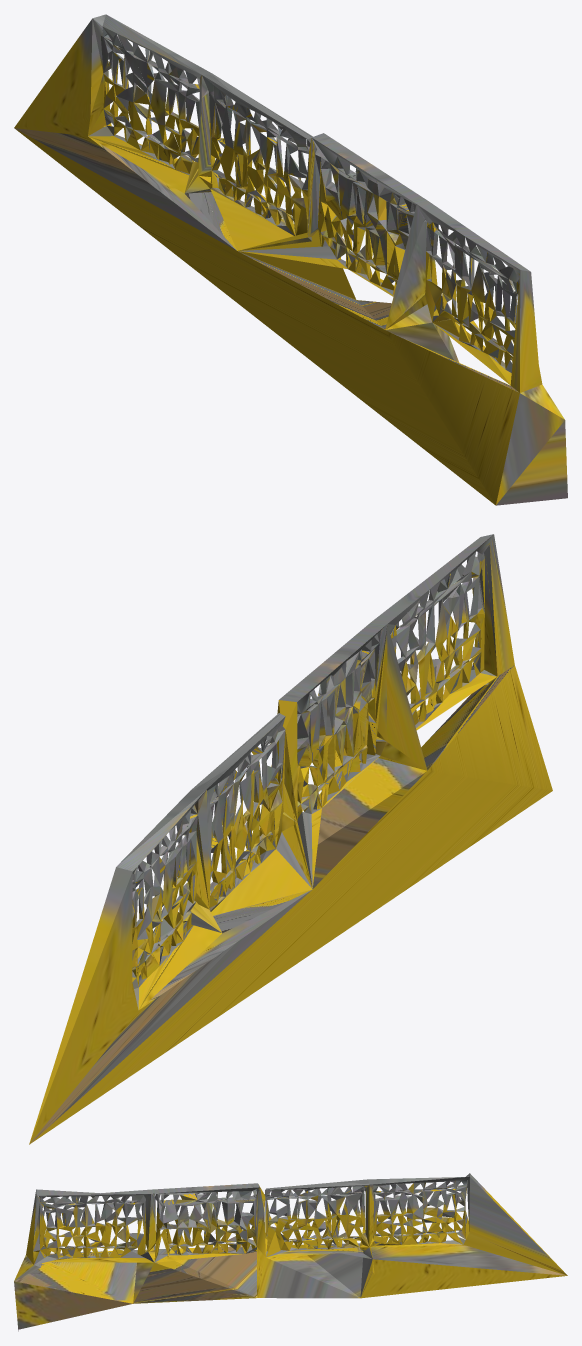
3 renders of one model, top to bottom at view 1: azimuth 30°, elevation 25°; view 2: azimuth 150°, elevation 25°; view 3: azimuth 270°, elevation 25°, orthographic. The views are drawn at different scales.
Visible parts, largest first — view 1: k04; view 2: k04; view 3: k04.
Part boxes in pixels (x1,y1,x2,y2): k04: (14, 14, 567, 505); k04: (29, 534, 552, 1144); k04: (14, 1173, 567, 1331).
Size of the model in its own units: 2.22 by 4.85 by 18.28.
1 material, 1 textured.
